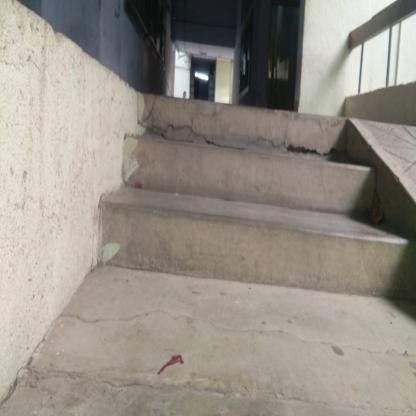stairs: (141, 111, 340, 292)
